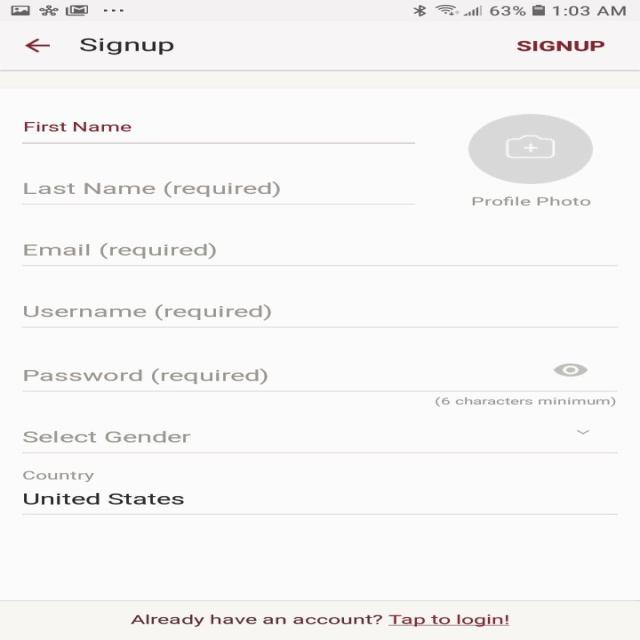EditText: (22, 362, 618, 392), (21, 428, 618, 453), (21, 304, 618, 328), (21, 242, 618, 266), (21, 492, 618, 515), (21, 180, 416, 205), (21, 121, 415, 144)
Icon: (467, 114, 593, 184), (552, 363, 588, 377), (25, 38, 51, 53), (575, 429, 589, 434)
Text: (23, 180, 280, 198), (23, 367, 269, 384), (23, 304, 271, 320), (23, 242, 217, 259), (23, 492, 184, 505), (23, 430, 191, 442), (434, 396, 616, 407), (79, 37, 173, 55), (471, 196, 590, 206), (24, 122, 132, 132), (516, 41, 604, 51), (22, 470, 94, 482)
TextButton: (0, 600, 639, 640)
